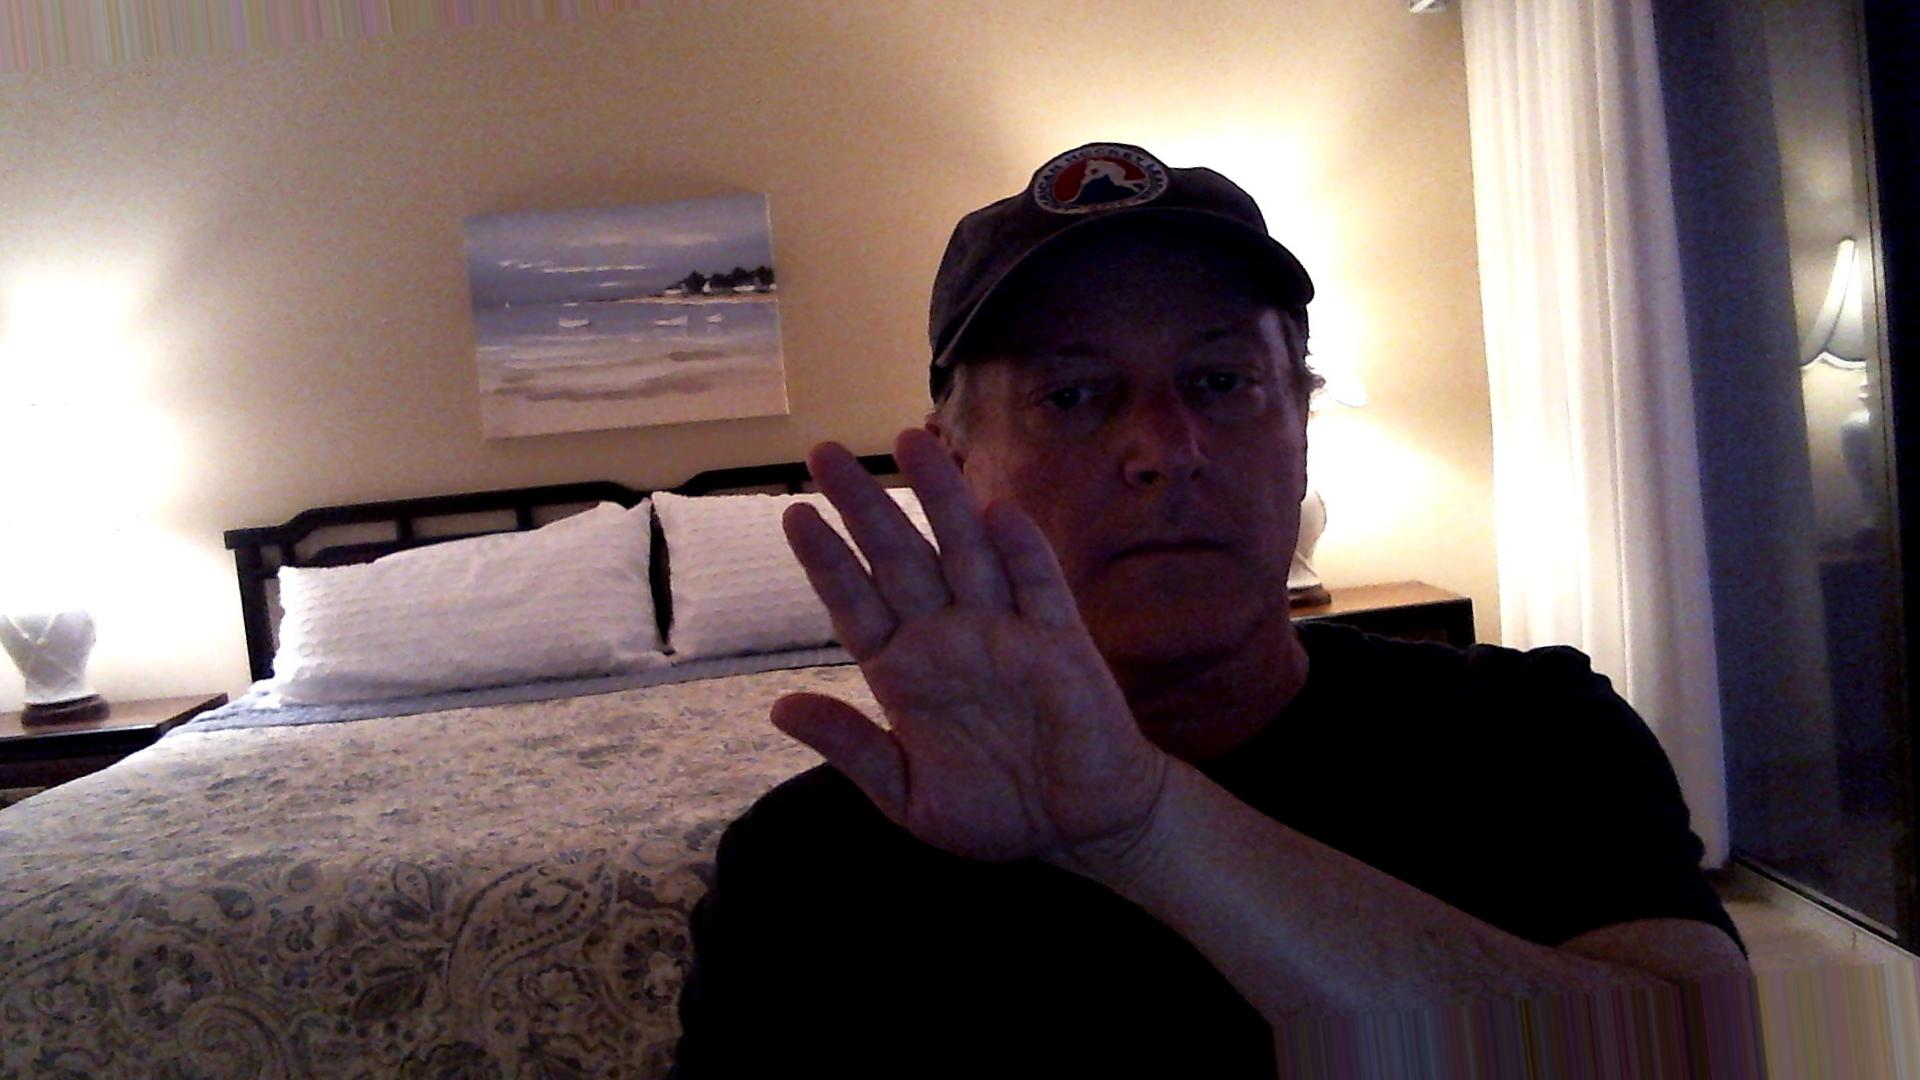Hello: (760, 425, 1203, 886)
